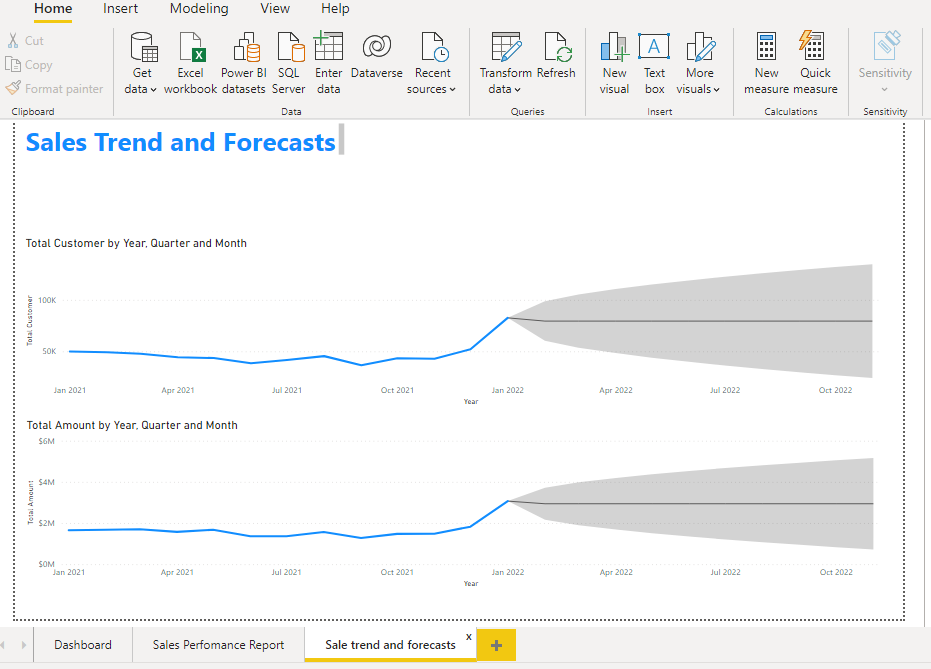

This screenshot's page, from the dashboard's own definition file:
{"tool":"powerbi","page":{"name":"Sale trend and forecasts","canvas":[1280,720],"ordinal":2},"visuals":[{"type":"textbox","box":[10.1,0,470.3,57.1],"z":0},{"type":"lineChart","fields":{"Category":["sales.Date.Variation.Date Hierarchy.Year","sales.Date.Variation.Date Hierarchy.Quarter","sales.Date.Variation.Date Hierarchy.Month","sales.Date.Variation.Date Hierarchy.Day"],"Y":["sales.Total Customer"]},"box":[10.1,168,1256.5,250.3],"z":1000},{"type":"lineChart","fields":{"Category":["sales.Date.Variation.Date Hierarchy.Year","sales.Date.Variation.Date Hierarchy.Quarter","sales.Date.Variation.Date Hierarchy.Month","sales.Date.Variation.Date Hierarchy.Day"],"Y":["sales.Total Amount"]},"box":[11.8,430,1256.5,250.3],"z":2000}]}

Visuals, with their boxes on the page's 1280x720 design canvas (x1, y1, x2, y2). These are canvas units, not pixel positions in the 931x669 screenshot, which may show the page scaled, cropped or inside an application window:
textbox: left=10, top=0, right=480, bottom=57
lineChart - sales.Date.Variation.Date Hierarchy.Year x sales.Date.Variation.Date Hierarchy.Quarter: left=10, top=168, right=1267, bottom=418
lineChart - sales.Date.Variation.Date Hierarchy.Year x sales.Date.Variation.Date Hierarchy.Quarter: left=12, top=430, right=1268, bottom=680
